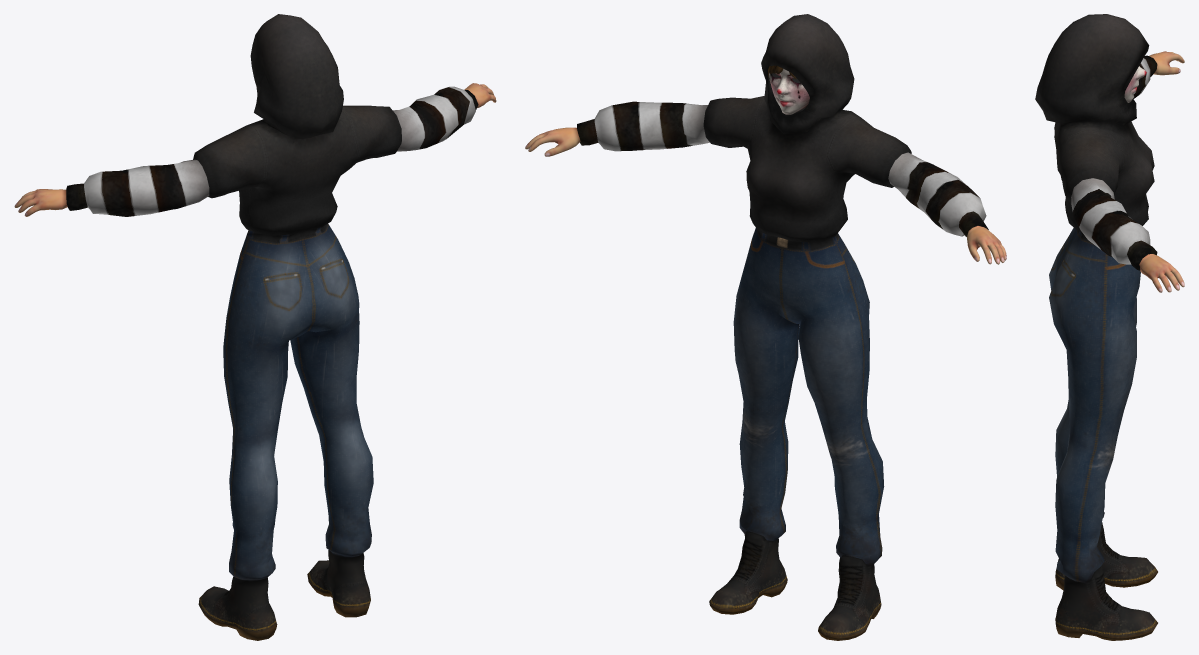
Rendered from bekalow.fbx.
3 views of the same model, side by side, from view 1: azimuth 30°, elevation 25°; view 2: azimuth 150°, elevation 25°; view 3: azimuth 270°, elevation 25° (orthographic).
Visible parts, largest first — view 1: Beka_head; view 2: Beka_head; view 3: Beka_head.
Boxes of the visible parts, box(x1,y1,x2,y2) form: Beka_head: box(14, 14, 496, 640); Beka_head: box(525, 14, 1006, 640); Beka_head: box(1035, 14, 1184, 640).
Bounding box in the file's own units: 139 × 166 × 38.03.
Materials: 1 (1 with a texture image).
